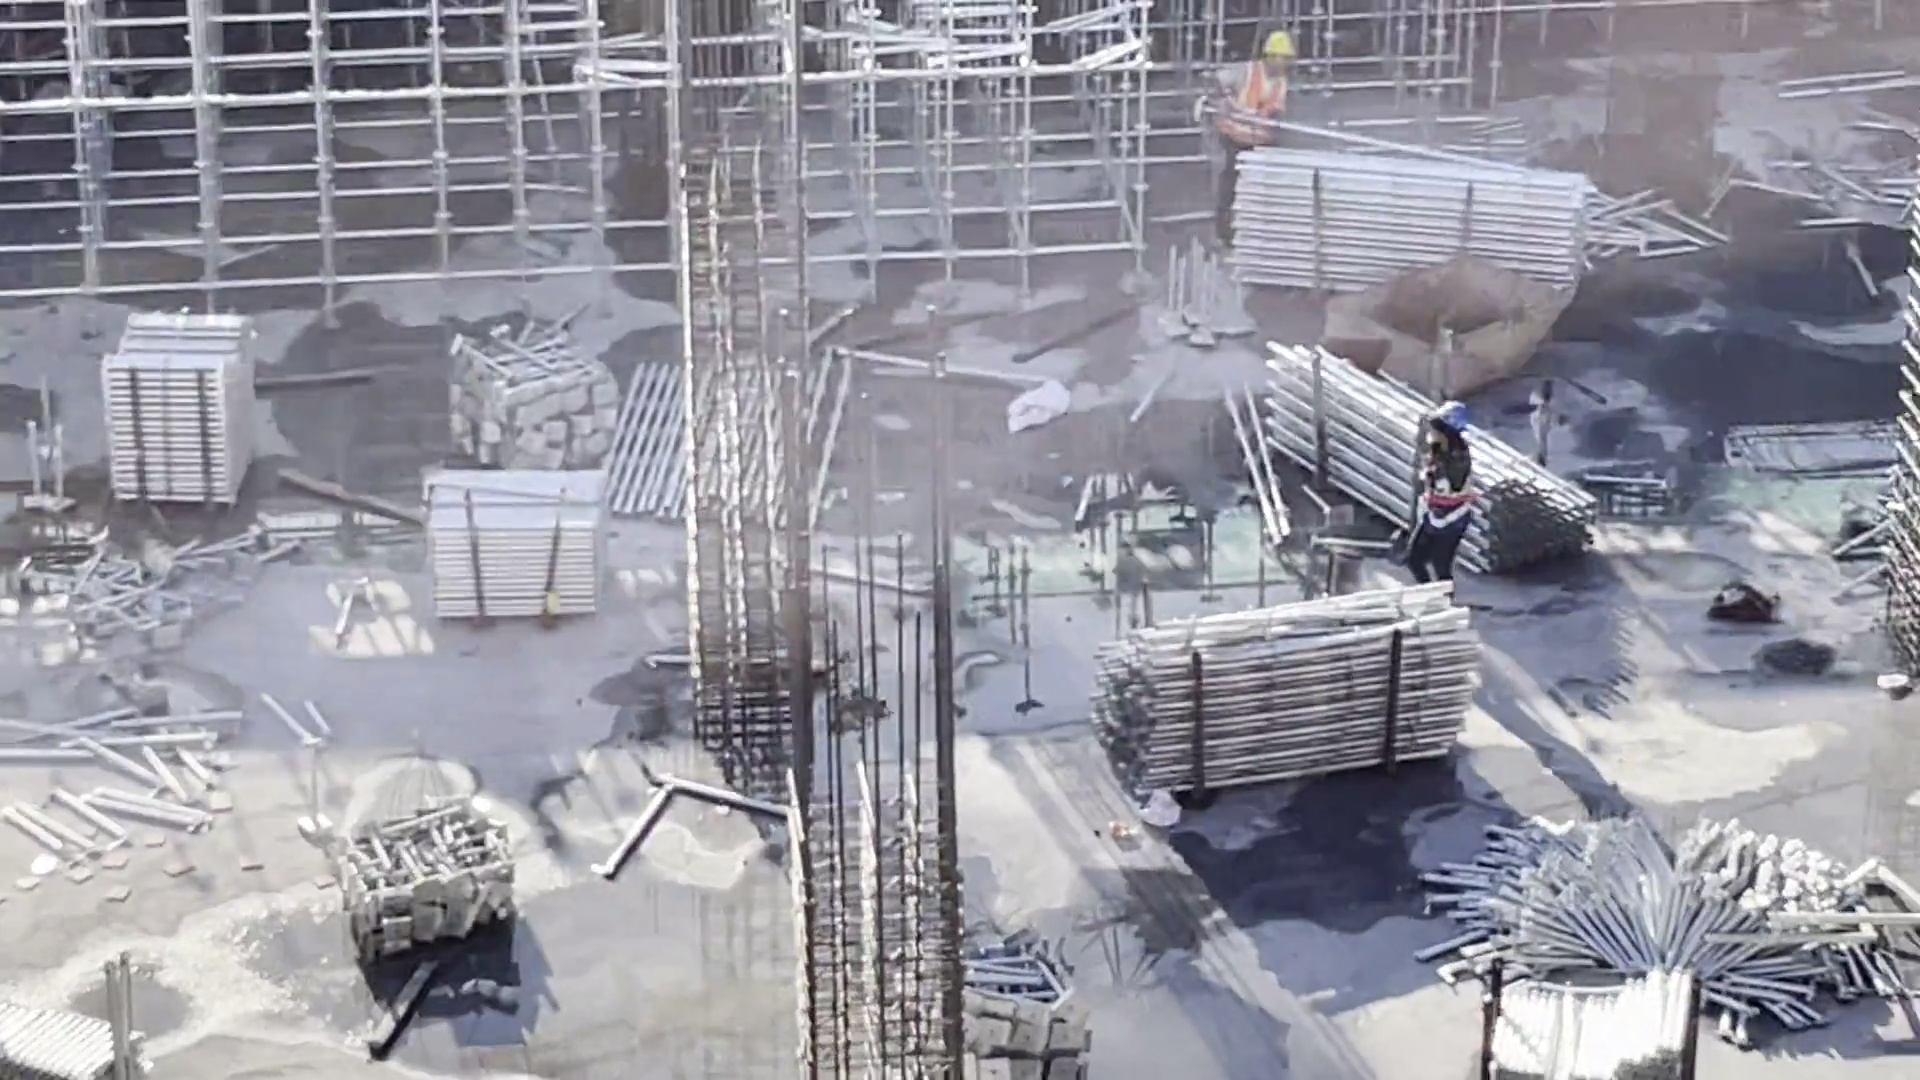helmet: (1258, 26, 1314, 61), (1436, 394, 1473, 439)
hopper: (1332, 254, 1570, 391)
person: (1214, 22, 1300, 249), (1415, 387, 1458, 586)
scaffold: (1444, 809, 1876, 1003), (1252, 337, 1581, 581), (1115, 585, 1486, 784), (1232, 147, 1585, 311), (859, 898, 1116, 1080), (81, 293, 276, 521), (356, 799, 528, 978), (1475, 949, 1700, 1080), (433, 466, 604, 619), (454, 343, 623, 475), (67, 550, 261, 636)
vest: (1225, 57, 1292, 149), (1414, 438, 1463, 522)
